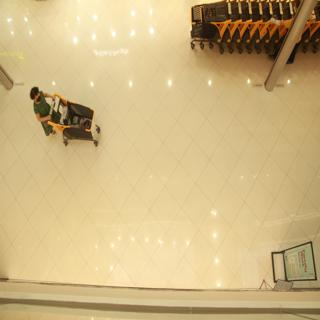person: (17, 78, 67, 148)
